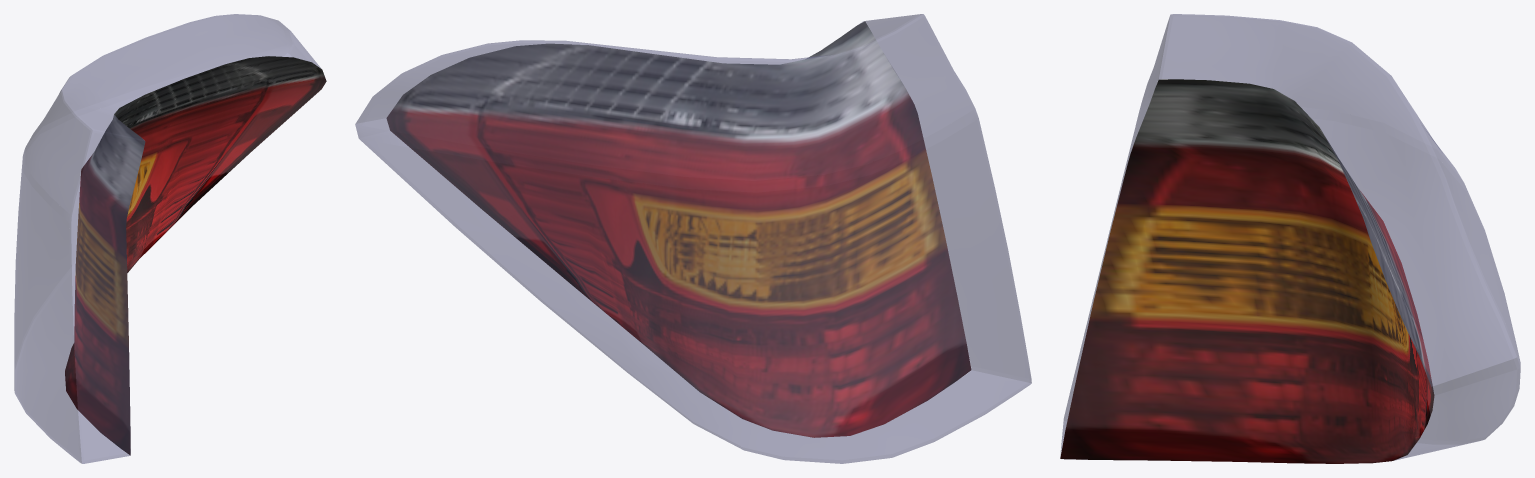
The picture shows the model from 3 angles, left to right: view 1: azimuth 30°, elevation 25°; view 2: azimuth 150°, elevation 25°; view 3: azimuth 270°, elevation 25°; orthographic projection. The views are drawn at different scales.
Parts seen in each view (by area): view 1: Y653_541C_L_1_DTaSI_Y653_541C_L, Y653_541C_L_Y653_541C_L_2_N; view 2: Y653_541C_L_1_DTaSI_Y653_541C_L, Y653_541C_L_Y653_541C_L_2_N; view 3: Y653_541C_L_Y653_541C_L_2_N, Y653_541C_L_1_DTaSI_Y653_541C_L.
Boxes of the visible parts, <box> form: Y653_541C_L_1_DTaSI_Y653_541C_L: <box>14,14,320,463</box>; Y653_541C_L_Y653_541C_L_2_N: <box>65,56,326,455</box>; Y653_541C_L_1_DTaSI_Y653_541C_L: <box>355,14,1031,463</box>; Y653_541C_L_Y653_541C_L_2_N: <box>386,21,971,437</box>; Y653_541C_L_Y653_541C_L_2_N: <box>1060,79,1434,463</box>; Y653_541C_L_1_DTaSI_Y653_541C_L: <box>1060,14,1520,460</box>.
Bounding box in the file's own units: 36.2 × 28.1 × 26.34.
